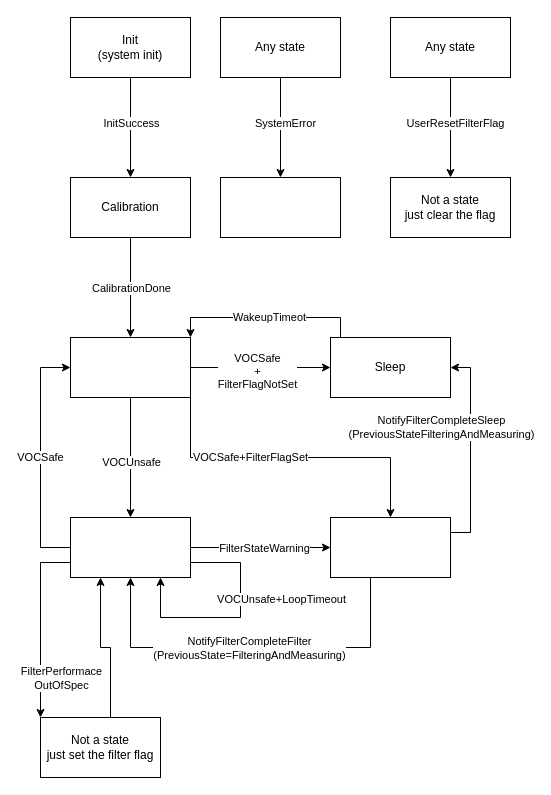
The diagram is 551 pixels wide and 795 high, and some of its shapes have lost their labels. Each missing label, with the box of its shape:
Fault: (220, 176, 340, 238)
FilteringAndMeasuring: (70, 516, 190, 578)
IdleMeasurement: (70, 336, 190, 398)
NotifyFilterWarning: (330, 516, 450, 578)
